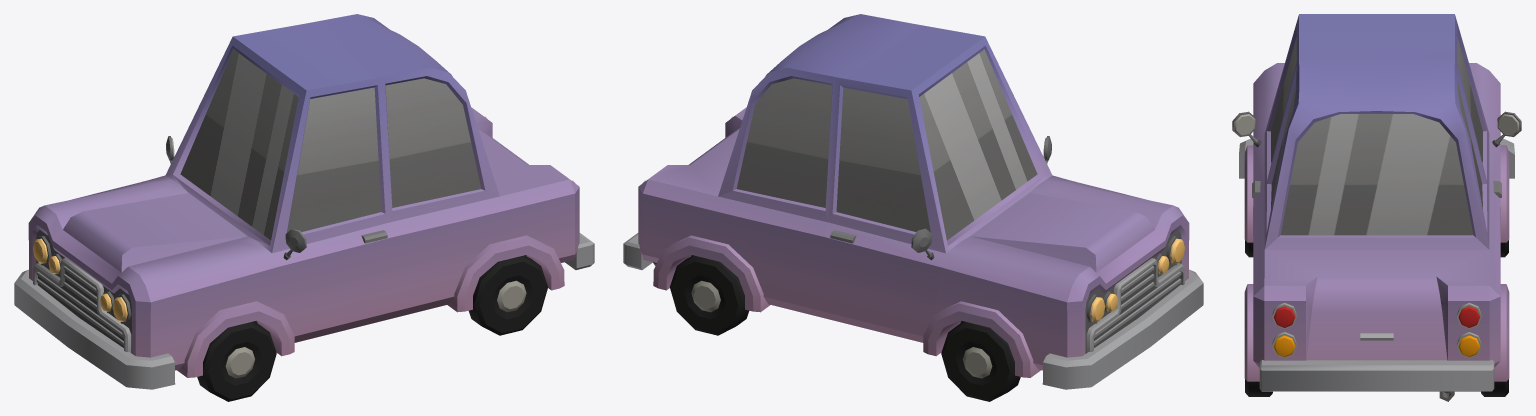
File: Car_8_U.gltf
The picture shows the model from 3 angles, left to right: view 1: azimuth 30°, elevation 25°; view 2: azimuth 150°, elevation 25°; view 3: azimuth 270°, elevation 25°; orthographic projection. The views are drawn at different scales.
Parts seen in each view (by area): view 1: Car_8_U, RL, FL; view 2: Car_8_U, RR, FR; view 3: Car_8_U, RL, RR.
Part boxes in pixels (bbox=[...]): Car_8_U: bbox=[14, 14, 594, 389]; RL: bbox=[469, 255, 547, 335]; FL: bbox=[197, 321, 276, 401]; Car_8_U: bbox=[623, 14, 1203, 389]; RR: bbox=[670, 255, 748, 335]; FR: bbox=[941, 321, 1020, 401]; Car_8_U: bbox=[1232, 14, 1521, 401]; RL: bbox=[1245, 379, 1272, 396]; RR: bbox=[1481, 379, 1508, 396].
Size of the model in its own units: 3.38 by 1.84 by 1.7.
3 materials, 3 textured.
